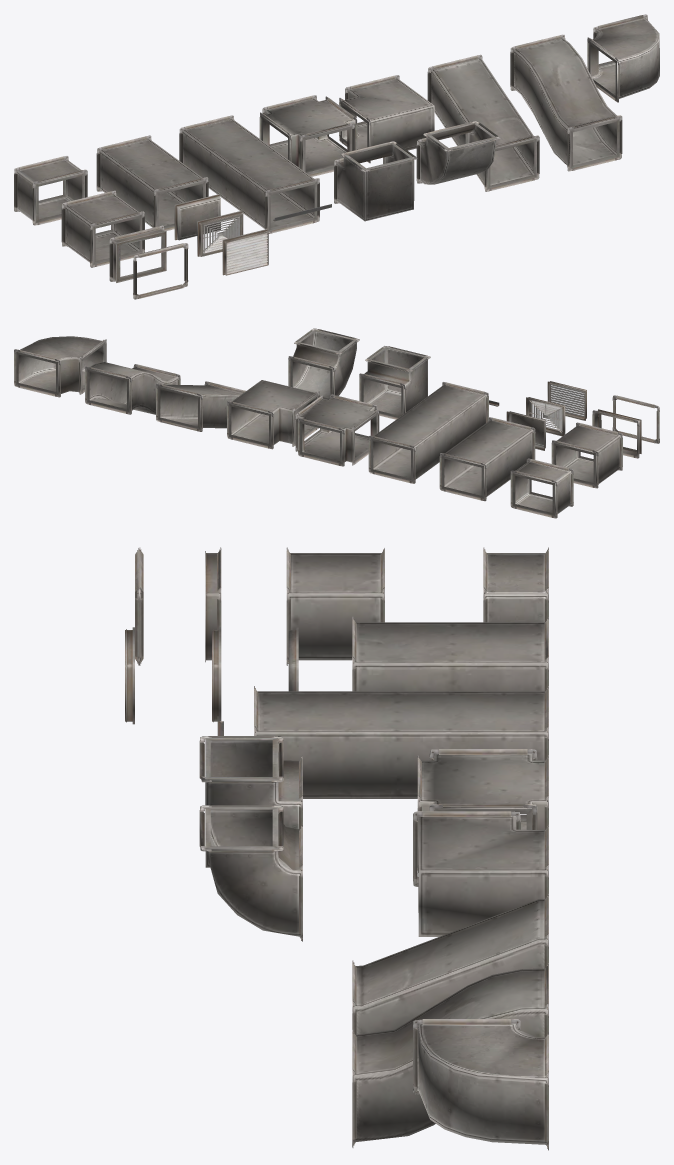
File: airduct.glb
3 renders of one model, top to bottom at view 1: azimuth 30°, elevation 25°; view 2: azimuth 150°, elevation 25°; view 3: azimuth 270°, elevation 25°, orthographic. The views are drawn at different scales.
Parts seen in each view (by area): view 1: modular_airduct_rectangular_01_single_01; view 2: modular_airduct_rectangular_01_single_01; view 3: modular_airduct_rectangular_01_single_01.
Part boxes in pixels (x1,y1,x2,y2): modular_airduct_rectangular_01_single_01: (14,14,659,299); modular_airduct_rectangular_01_single_01: (14,328,659,518); modular_airduct_rectangular_01_single_01: (125,547,548,1150).
Size of the model in its own units: 7.66 by 1.08 by 2.59.
2 materials, 2 textured.
